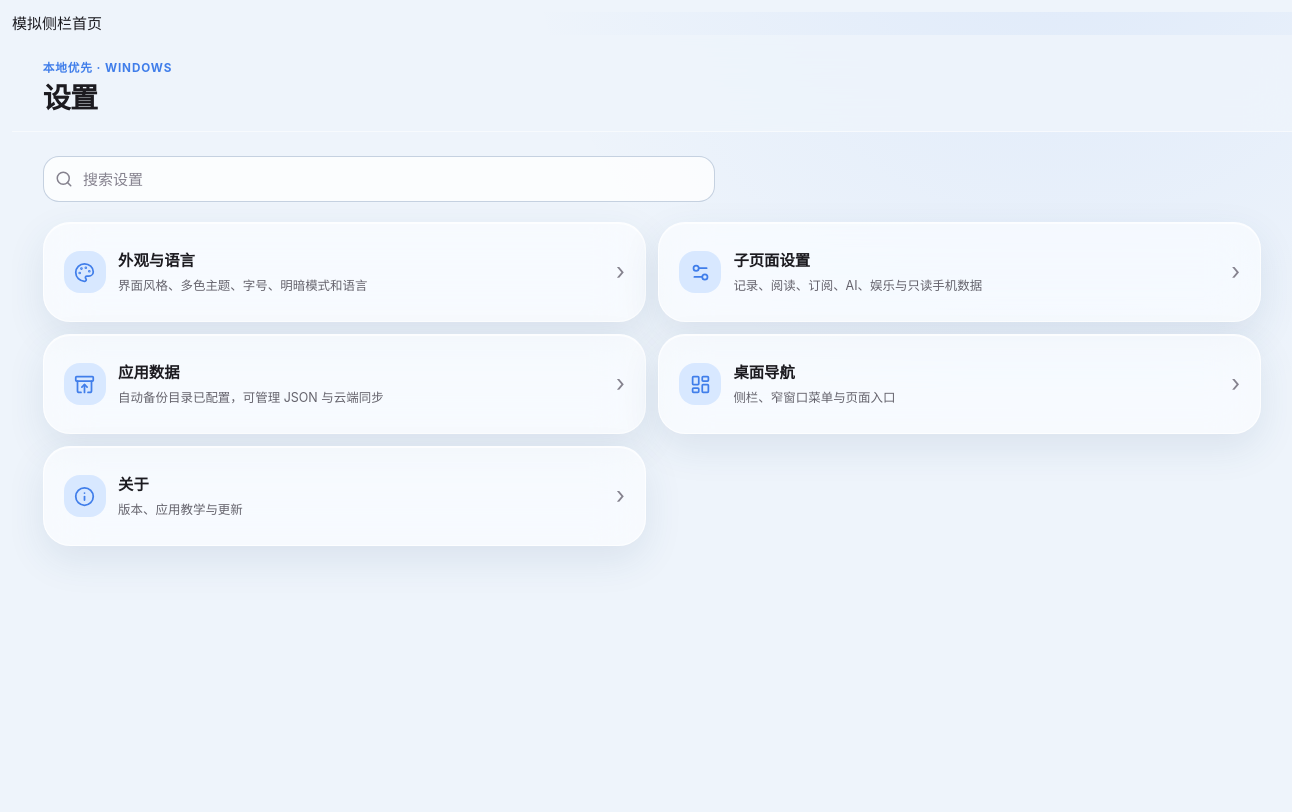
Test case: SettingsPage › matches Android subpage settings without exposing excluded Windows pages
Check: the heading "设置" is shown, box top-left (43, 78), bottom-right (97, 116)
Click the button "子页面设置 记录、阅读、订阅、AI、娱乐与只读手机数据 ›" at (700, 272), box top-left (658, 222), bottom-right (1261, 322)
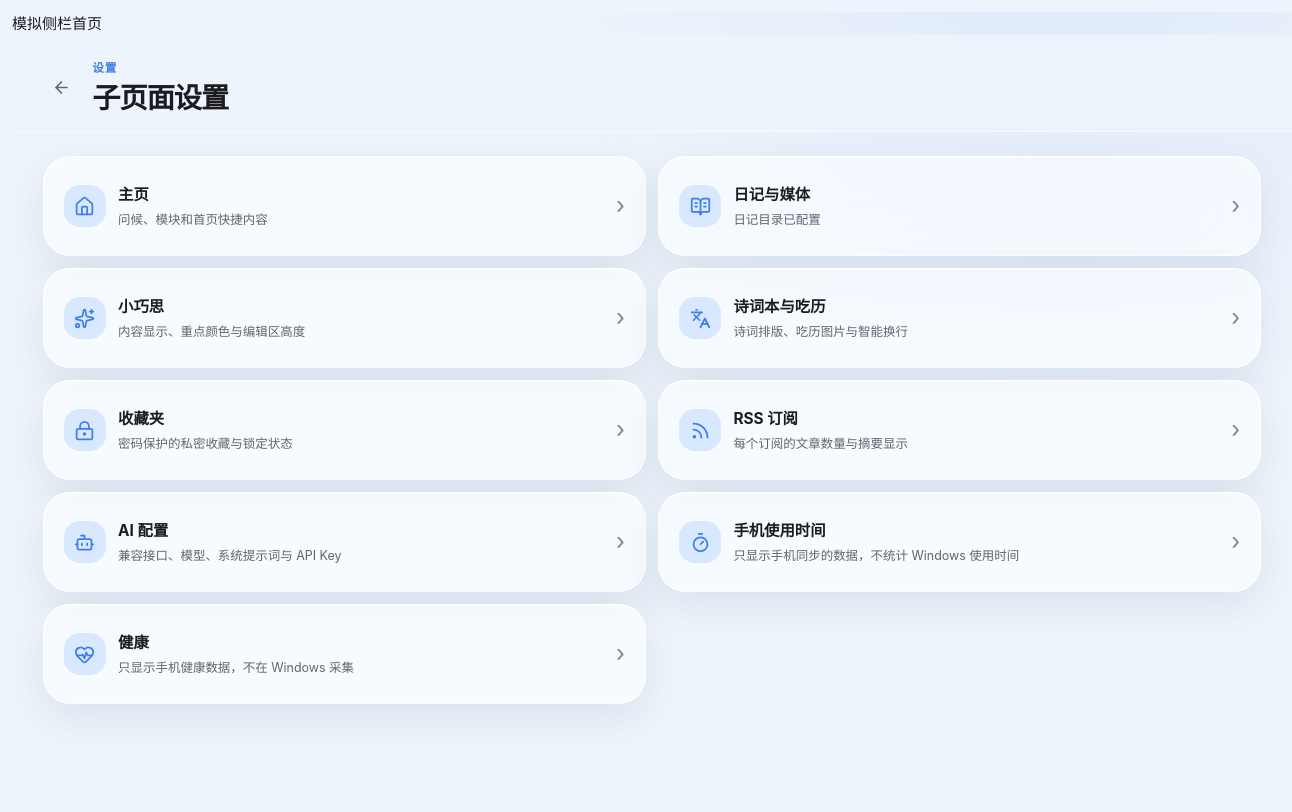
Check: the button "RSS 订阅 每个订阅的文章数量与摘要显示 ›" is shown, box top-left (658, 380), bottom-right (1261, 480)
Check: the button "AI 配置 兼容接口、模型、系统提示词与 API Key ›" is shown, box top-left (43, 492), bottom-right (646, 592)
Check: the button "健康 只显示手机健康数据，不在 Windows 采集 ›" is shown
Click the button "健康 只显示手机健康数据，不在 Windows 采集 ›" at (85, 654), box top-left (43, 604), bottom-right (646, 704)
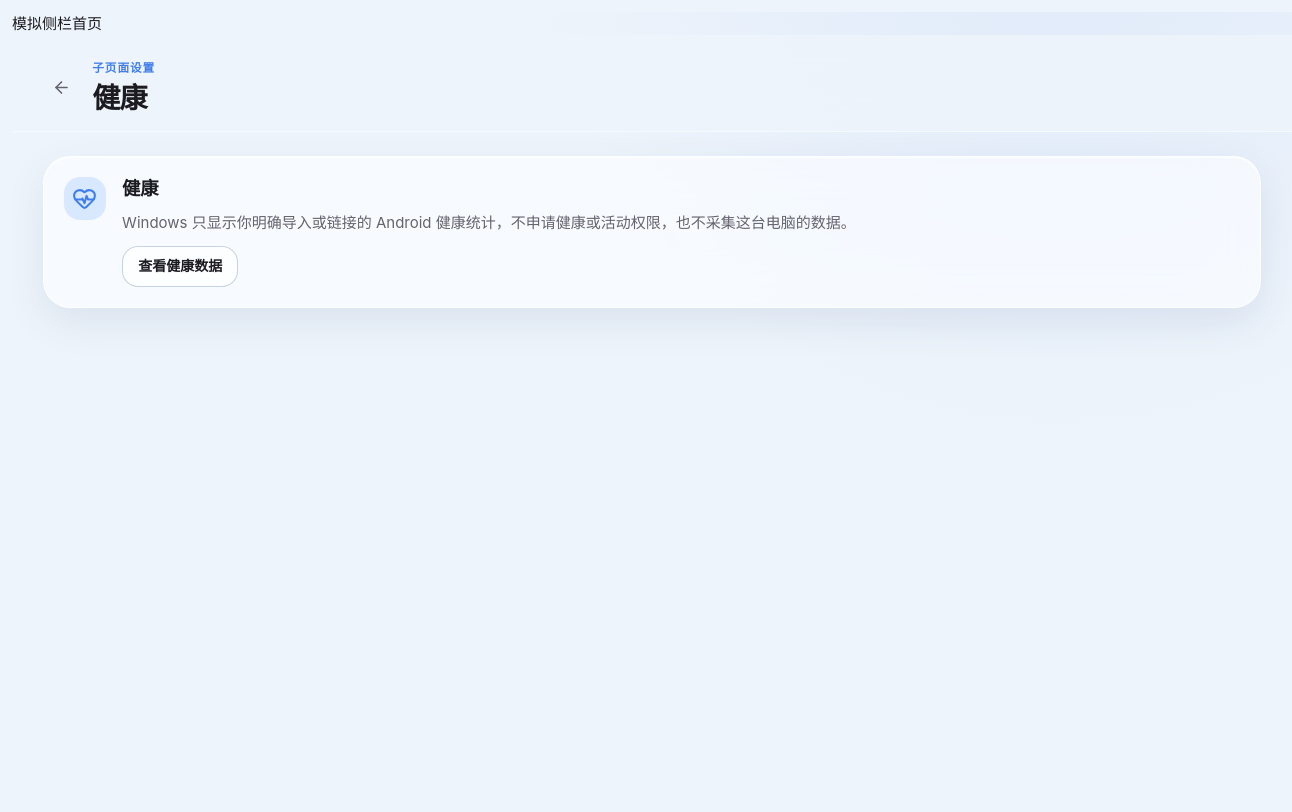
Check: the heading "健康" below "子页面设置" is shown, box top-left (92, 81), bottom-right (155, 115)
